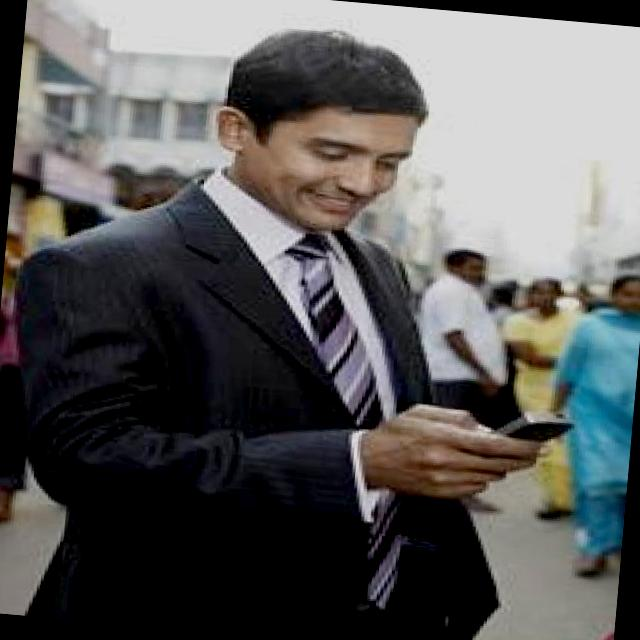no_vest: (0, 163, 519, 640), (550, 294, 640, 507), (414, 264, 522, 386)
